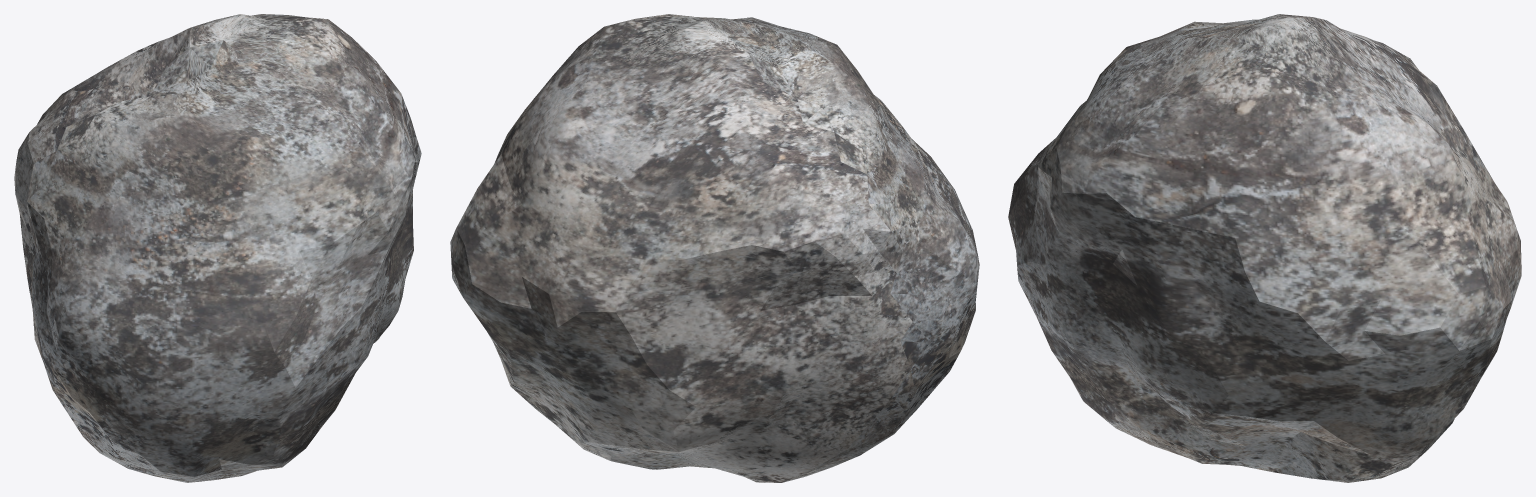
The model's file is Asteroid_Large_004.fbx.
The picture shows the model from 3 angles, left to right: view 1: azimuth 30°, elevation 25°; view 2: azimuth 150°, elevation 25°; view 3: azimuth 270°, elevation 25°; orthographic projection. The views are drawn at different scales.
Visible parts, largest first — view 1: Asteroid_Large_004; view 2: Asteroid_Large_004; view 3: Asteroid_Large_004.
Part boxes in pixels (left/top/right/bottom): Asteroid_Large_004: left=14, top=14, right=421, bottom=482; Asteroid_Large_004: left=450, top=14, right=979, bottom=482; Asteroid_Large_004: left=1008, top=14, right=1521, bottom=482.
Size of the model in its own units: 43.69 by 43.69 by 43.58.
Materials: 1 (1 with a texture image).
